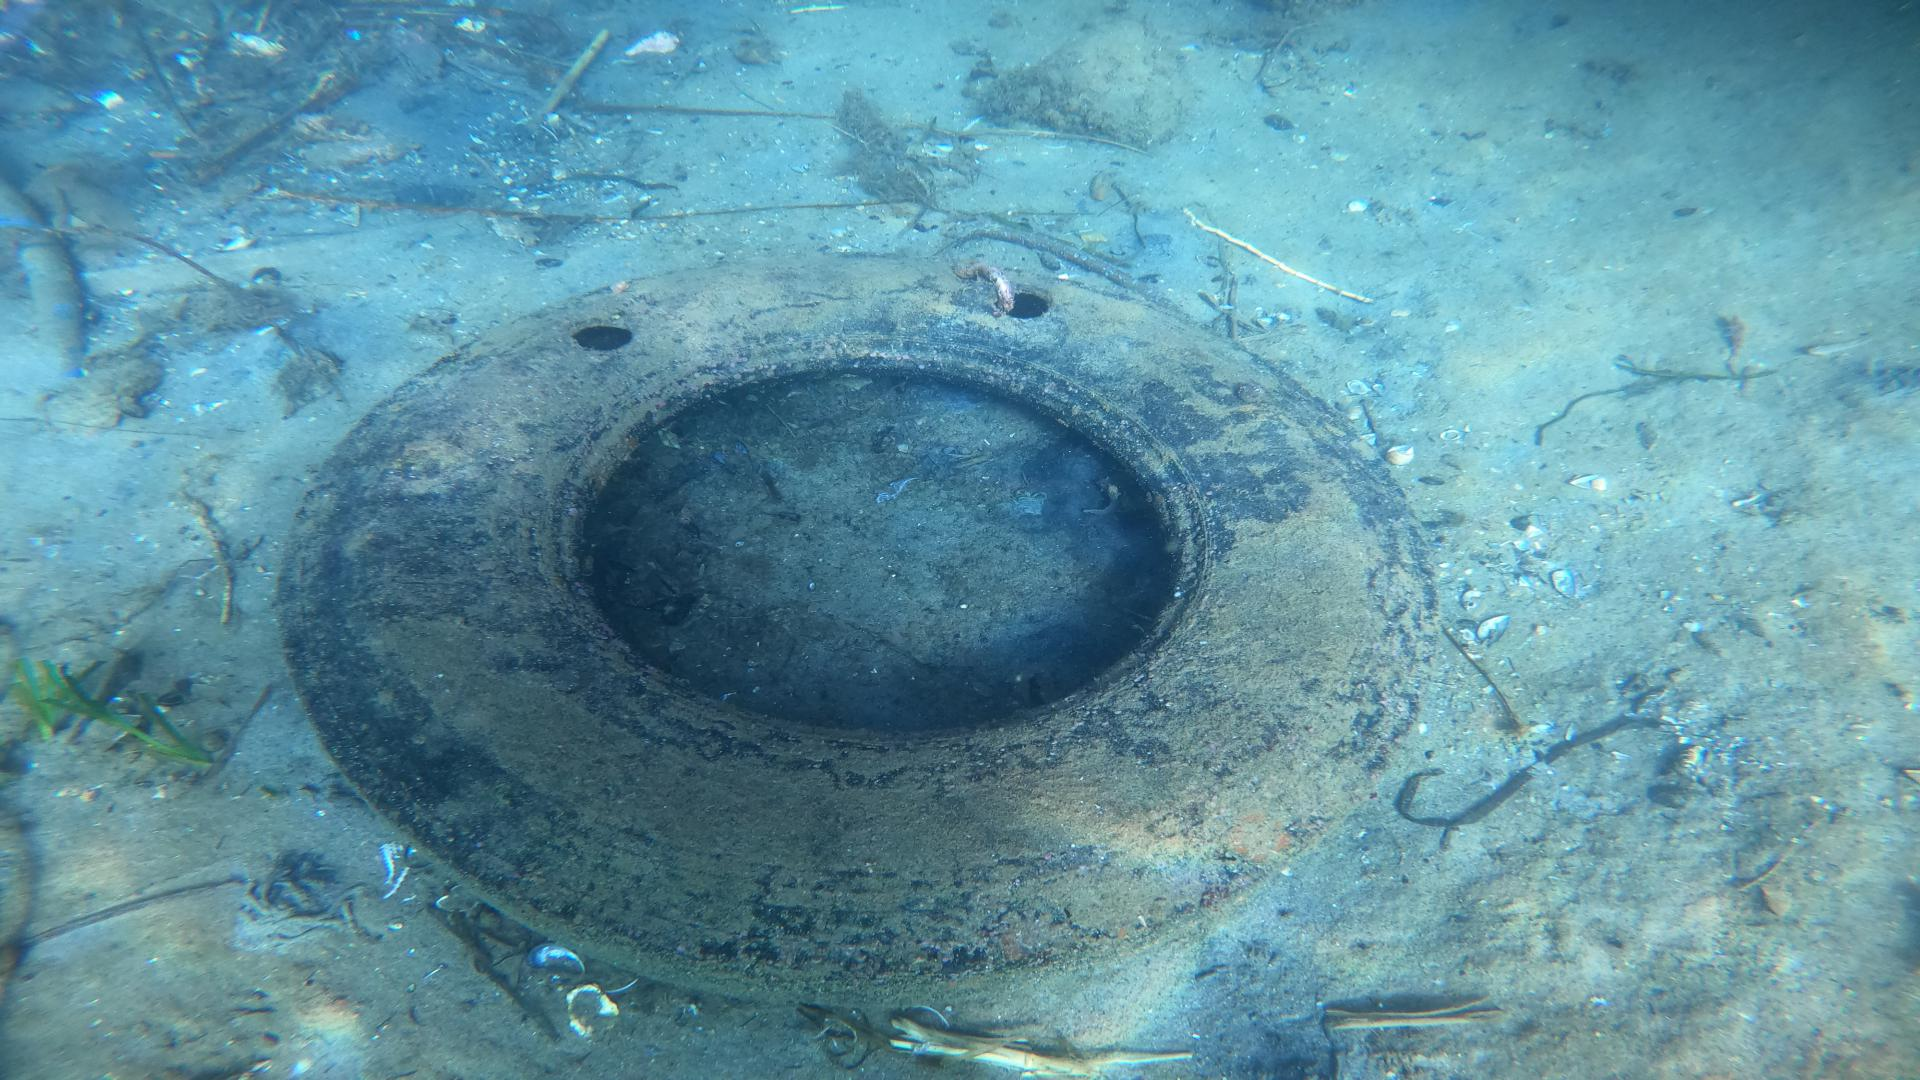tire: (272, 248, 1439, 1006)
